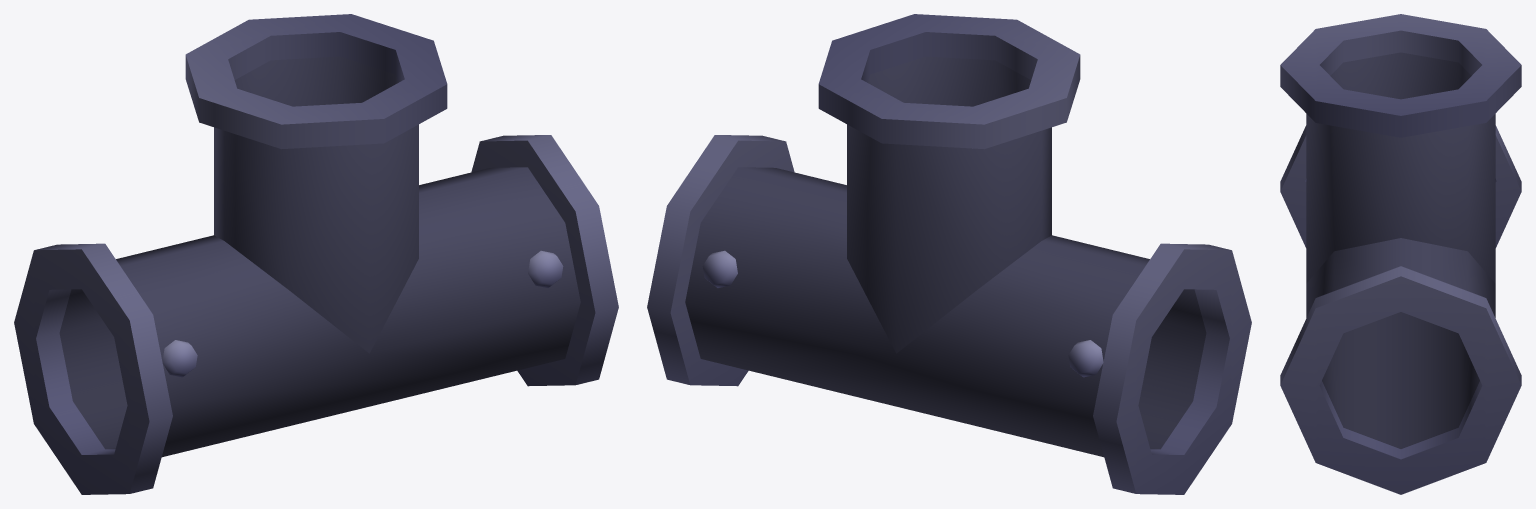
Rendered from pipe-large-side.glb.
3 renders of one model, left to right at view 1: azimuth 30°, elevation 25°; view 2: azimuth 150°, elevation 25°; view 3: azimuth 270°, elevation 25°, orthographic. The views are drawn at different scales.
Visible parts, largest first — view 1: pipe-large-side; view 2: pipe-large-side; view 3: pipe-large-side.
Boxes of the visible parts, x1,y1,x2,y2 form: pipe-large-side: (14,14,618,494); pipe-large-side: (647,14,1251,494); pipe-large-side: (1280,14,1521,494).
Size of the model in its own units: 2 by 1.5 by 1.
